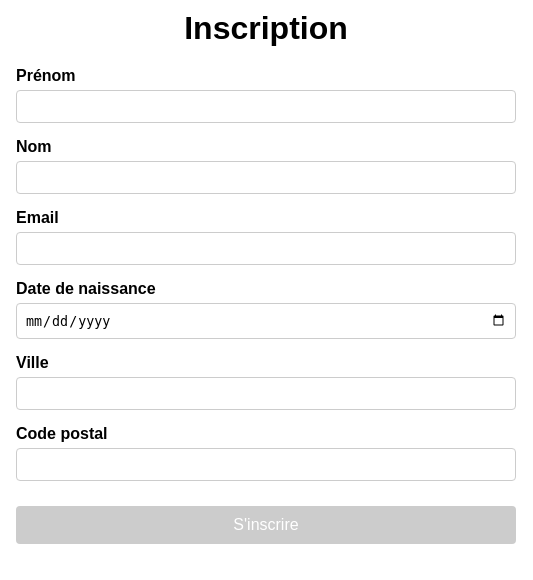
Formulaire d'inscription › affiche une erreur si le prenom contient des chiffres
Type "Jean123" into the field with test id "firstName" at point(266, 107), box [16, 90, 516, 123]
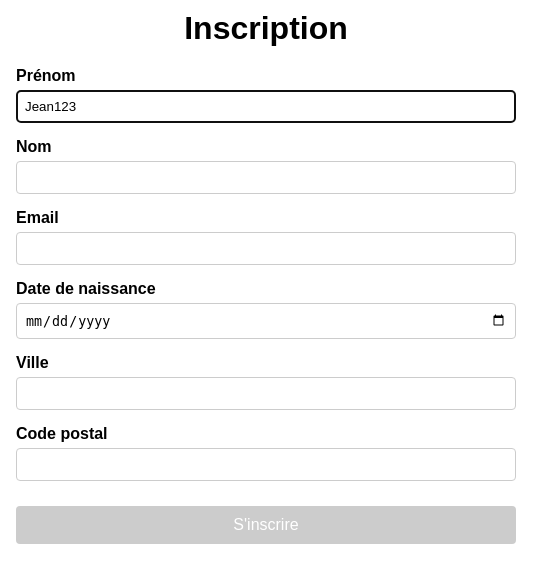
Leave the field with test id "firstName", box [16, 90, 516, 123]
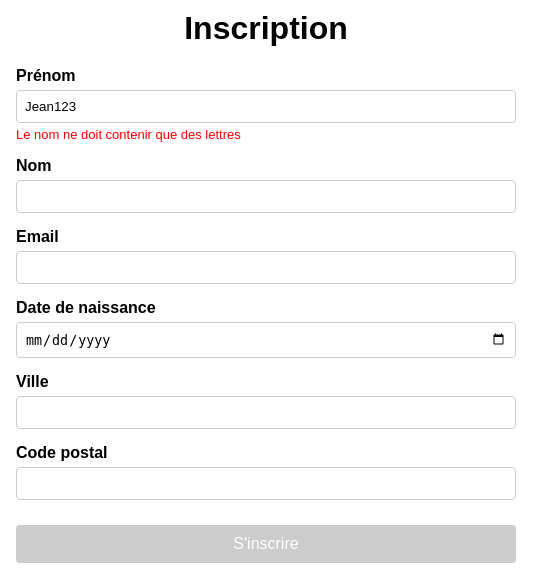
Now the text with test id "error-firstName" reads "Le nom ne doit contenir que des lettres", box [16, 127, 241, 142]
